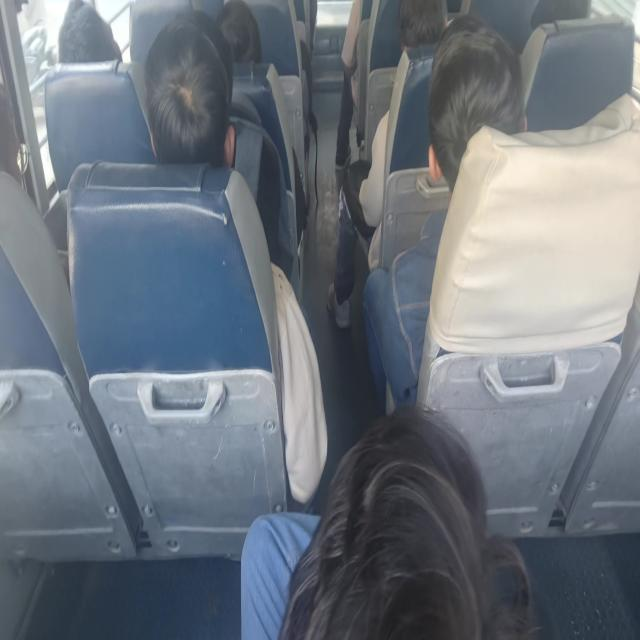person: (143, 11, 328, 507), (240, 403, 536, 638), (362, 15, 527, 412), (143, 12, 294, 279), (326, 0, 448, 329), (144, 11, 236, 168), (334, 0, 362, 171), (57, 0, 122, 64), (215, 0, 262, 63)
